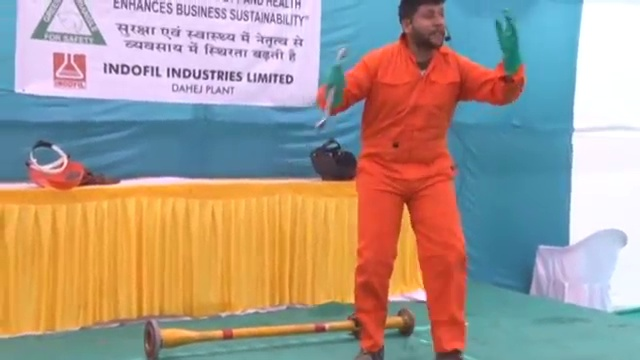helmet_off: (397, 1, 454, 50)
person: (310, 2, 527, 360)
